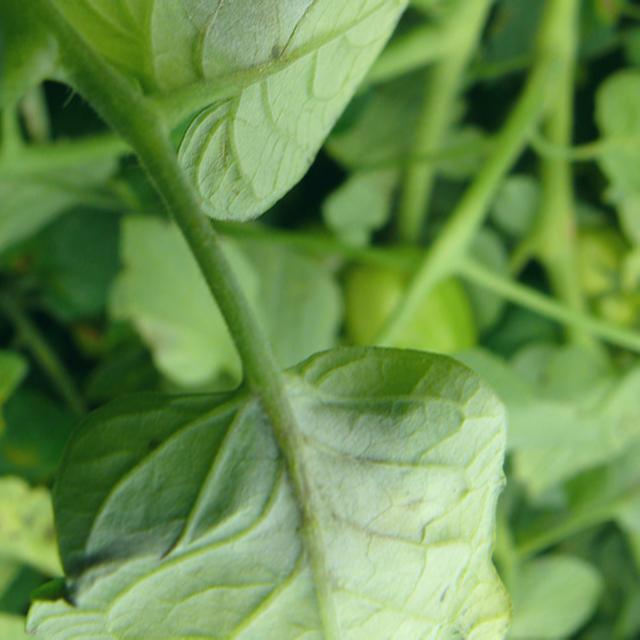Tomato leaf late blight: (5, 350, 536, 640), (18, 0, 452, 232)
